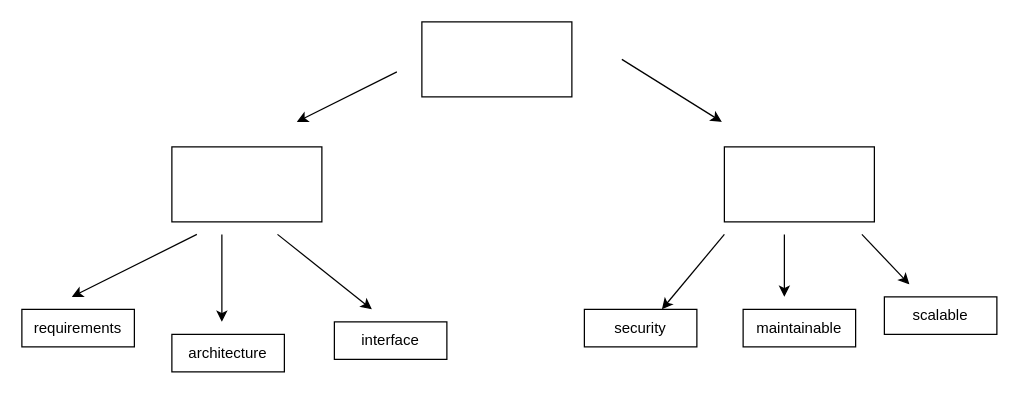
Image size: 1019x394. Some labels were removed from this diagram. The shapes that lost their labels are listed below. From the top down, each one's centre as x and y in pixels, then its label:
the point at 496,59: System design
the point at 246,184: design
the point at 798,184: system components
